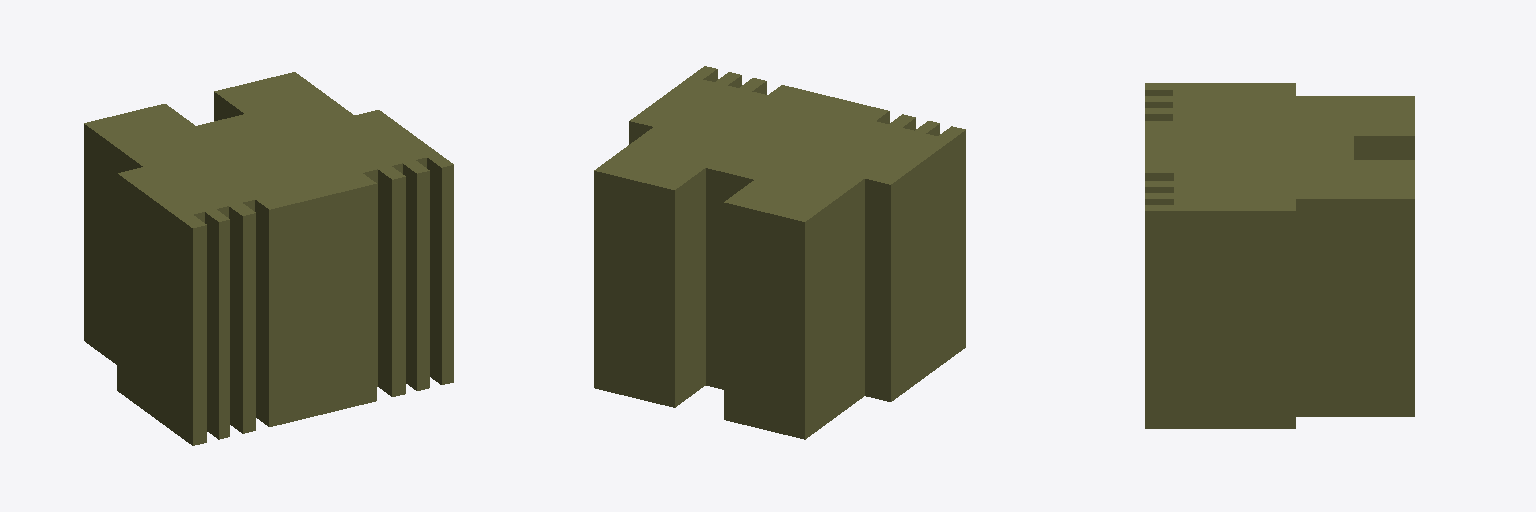
Rendered from ycastle.obj.
3 renders of one model, left to right at view 1: azimuth 30°, elevation 25°; view 2: azimuth 150°, elevation 25°; view 3: azimuth 270°, elevation 25°, orthographic.
Size of the model in its own units: 8.83 by 7.02 by 7.9.